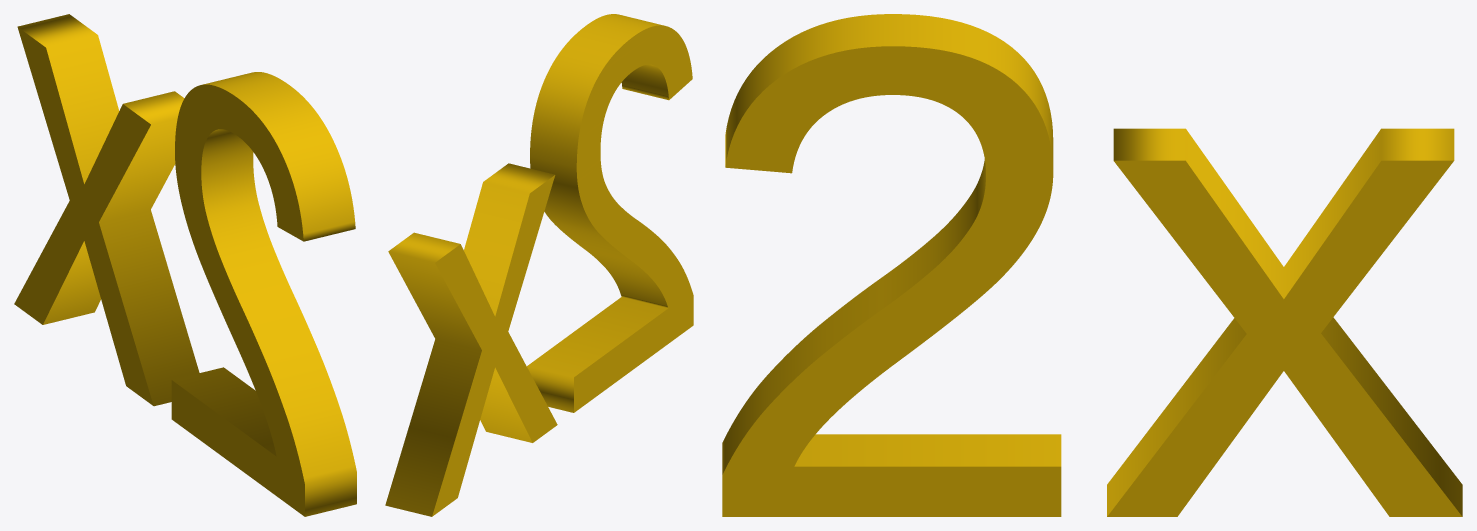
The model's file is double_power.fbx.
The picture shows the model from 3 angles, left to right: view 1: azimuth 30°, elevation 25°; view 2: azimuth 150°, elevation 25°; view 3: azimuth 270°, elevation 25°; orthographic projection. The views are drawn at different scales.
Visible parts, largest first — view 1: double; view 2: double; view 3: double.
Part boxes in pixels (left/top/right/bottom): double: left=14, top=14, right=356, bottom=516; double: left=385, top=14, right=693, bottom=516; double: left=722, top=14, right=1462, bottom=516.
Bounding box in the file's own units: 0.093 × 0.6326 × 0.9016.
